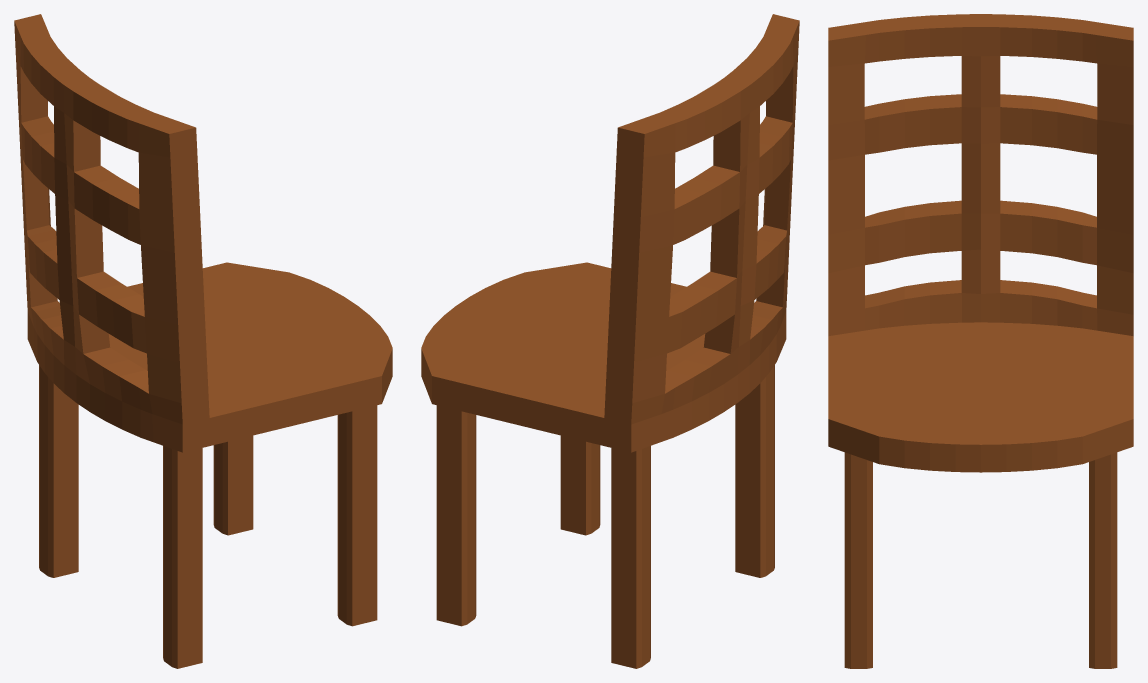
File: Chaise.fbx
3 views of the same model, side by side, from view 1: azimuth 30°, elevation 25°; view 2: azimuth 150°, elevation 25°; view 3: azimuth 270°, elevation 25° (orthographic).
Parts seen in each view (by area): view 1: Cube.009; view 2: Cube.009; view 3: Cube.009.
Part boxes in pixels (x1,y1,x2,y2): Cube.009: [14, 14, 392, 668]; Cube.009: [421, 14, 799, 668]; Cube.009: [828, 14, 1133, 668].
Size of the model in its own units: 220 by 388 by 200.
